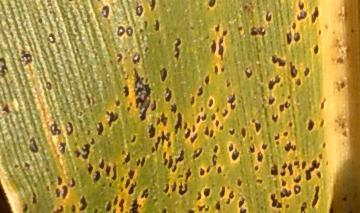tarspot: (131, 65, 153, 122), (304, 157, 321, 183), (171, 148, 185, 173), (154, 129, 171, 149), (104, 109, 119, 129), (17, 49, 33, 67), (295, 1, 308, 22), (269, 192, 283, 210), (311, 185, 321, 210), (217, 35, 226, 62), (49, 120, 63, 137), (27, 136, 40, 154), (226, 92, 238, 111), (173, 37, 182, 62), (270, 54, 286, 68), (267, 74, 281, 90), (128, 197, 142, 213), (173, 112, 182, 136), (283, 139, 297, 154), (288, 60, 299, 79), (1, 57, 10, 80), (77, 195, 88, 213), (56, 140, 68, 156), (158, 109, 169, 126), (190, 147, 203, 161), (310, 5, 319, 25), (64, 121, 75, 137), (269, 161, 280, 177), (30, 186, 39, 205), (283, 30, 293, 47), (100, 4, 111, 19), (147, 122, 156, 140), (134, 1, 144, 17), (237, 197, 247, 213), (163, 86, 173, 102), (81, 143, 91, 159), (178, 181, 188, 197), (127, 182, 138, 196), (159, 66, 168, 83), (209, 38, 218, 55), (319, 95, 328, 112), (110, 163, 118, 182), (95, 120, 104, 136), (61, 184, 69, 202), (280, 186, 292, 198), (114, 52, 125, 65), (202, 186, 212, 200), (131, 51, 141, 65), (307, 117, 315, 134), (86, 160, 94, 177), (231, 148, 240, 163), (248, 24, 258, 37), (279, 161, 287, 177), (67, 174, 76, 188), (213, 199, 222, 213), (149, 98, 158, 112), (92, 169, 101, 183), (123, 150, 132, 164), (189, 130, 198, 144), (255, 26, 266, 37), (292, 173, 303, 184), (299, 201, 309, 213), (327, 198, 335, 213), (1, 103, 11, 115), (118, 198, 126, 213), (218, 185, 226, 200), (226, 190, 234, 205), (287, 161, 294, 178), (121, 85, 130, 98), (125, 25, 134, 38), (116, 25, 125, 38), (244, 66, 253, 79), (267, 94, 276, 107), (270, 111, 279, 124), (51, 204, 64, 213), (55, 174, 64, 187), (293, 183, 302, 196), (256, 149, 264, 163), (184, 166, 191, 182), (46, 33, 56, 44), (292, 31, 301, 43), (140, 188, 149, 200), (98, 156, 105, 171), (264, 10, 272, 23), (240, 126, 248, 139), (254, 121, 262, 134), (170, 180, 178, 193), (127, 168, 135, 181), (183, 127, 191, 140), (293, 77, 303, 87), (278, 177, 288, 187), (73, 148, 82, 159), (196, 202, 205, 213), (293, 159, 302, 170), (153, 18, 160, 32), (214, 22, 221, 36), (196, 85, 204, 97), (169, 102, 177, 114), (220, 107, 228, 119), (211, 154, 219, 166), (162, 151, 168, 167), (212, 64, 219, 77), (112, 193, 119, 206), (224, 76, 231, 89), (207, 1, 217, 10), (227, 127, 236, 137), (277, 103, 286, 113), (167, 154, 173, 169), (149, 1, 157, 12), (21, 202, 29, 213), (302, 66, 310, 77), (203, 74, 211, 85), (54, 187, 62, 198), (207, 96, 214, 108), (104, 163, 110, 177), (163, 182, 170, 194), (125, 178, 132, 190), (140, 155, 147, 167), (318, 117, 325, 129), (260, 142, 269, 151), (44, 80, 52, 90), (69, 203, 77, 213), (248, 143, 256, 153), (236, 177, 244, 187), (313, 43, 319, 56), (105, 200, 111, 213), (203, 124, 209, 137), (114, 98, 121, 109), (181, 119, 188, 130), (23, 161, 32, 169), (36, 16, 44, 25), (190, 95, 196, 107), (254, 177, 263, 185), (283, 100, 291, 109), (143, 19, 149, 31), (129, 134, 136, 144), (290, 20, 297, 30), (227, 142, 234, 152), (205, 164, 212, 174), (198, 166, 205, 176), (204, 203, 211, 213), (315, 170, 322, 180), (300, 159, 307, 169), (210, 112, 217, 122), (210, 127, 215, 141), (84, 94, 91, 104), (195, 190, 201, 201), (135, 157, 141, 168), (201, 111, 207, 122), (284, 202, 291, 211), (216, 165, 223, 174), (212, 144, 219, 153), (89, 136, 96, 145), (214, 119, 221, 128), (166, 140, 173, 149), (219, 122, 225, 132), (195, 114, 201, 124), (12, 162, 19, 170), (221, 29, 228, 37), (236, 25, 243, 33), (119, 175, 126, 183), (282, 130, 289, 138), (273, 133, 281, 140), (317, 152, 324, 160), (198, 105, 205, 113), (191, 123, 196, 134), (287, 120, 293, 129), (160, 206, 167, 213), (177, 173, 184, 180), (219, 65, 225, 73), (254, 164, 260, 172), (151, 145, 156, 154), (111, 207, 118, 213), (125, 106, 131, 113), (127, 101, 133, 108), (274, 139, 280, 146), (321, 141, 327, 148), (137, 27, 143, 34), (186, 209, 196, 213), (250, 118, 256, 124), (143, 46, 148, 53), (92, 208, 98, 213), (95, 1, 102, 2), (66, 1, 73, 2)
